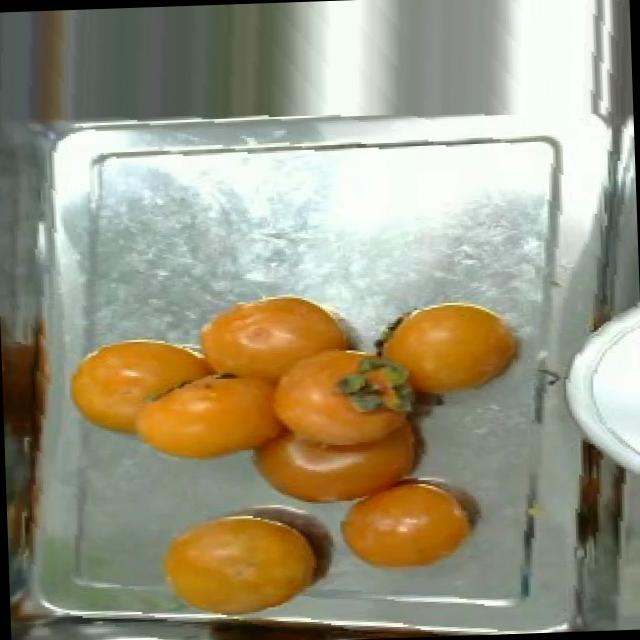Fruit: (140, 490, 342, 624), (359, 286, 539, 421), (320, 458, 498, 586), (178, 286, 378, 399), (54, 326, 218, 449), (551, 425, 640, 560), (569, 0, 634, 141)
